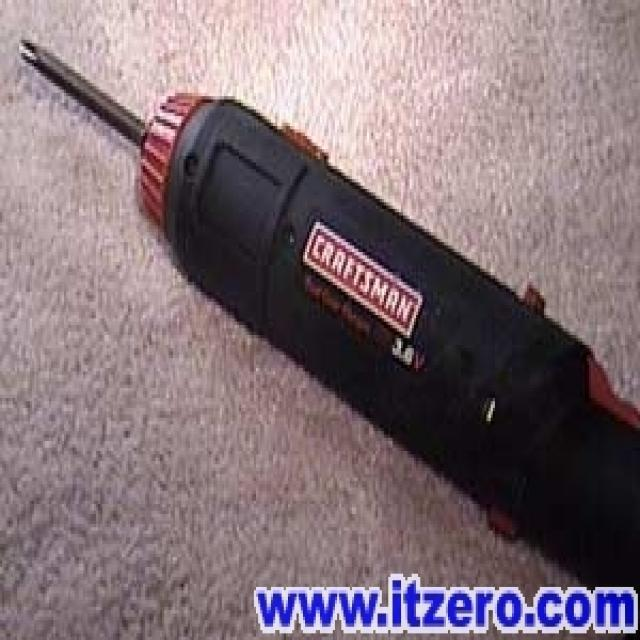drill: (14, 28, 640, 596)
